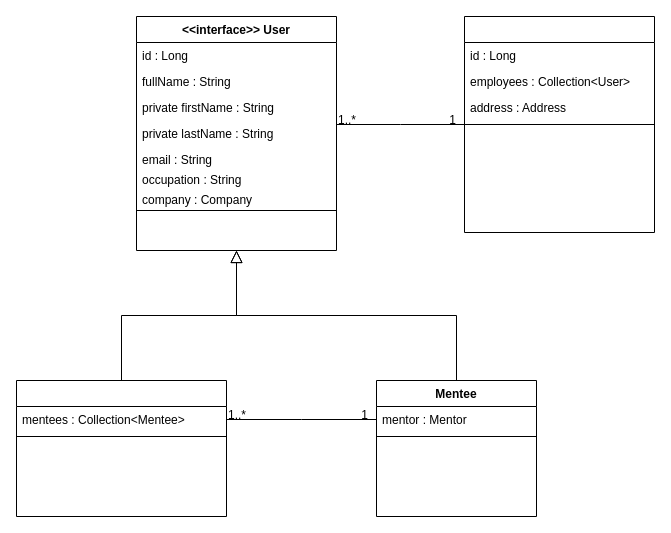
This 671x533 diagram has some shape labels left out. The box of each missing label's shape, as (x1, y1, x2, y2) in pixels:
Company: (464, 16, 654, 232)
Mentor: (16, 380, 226, 516)
